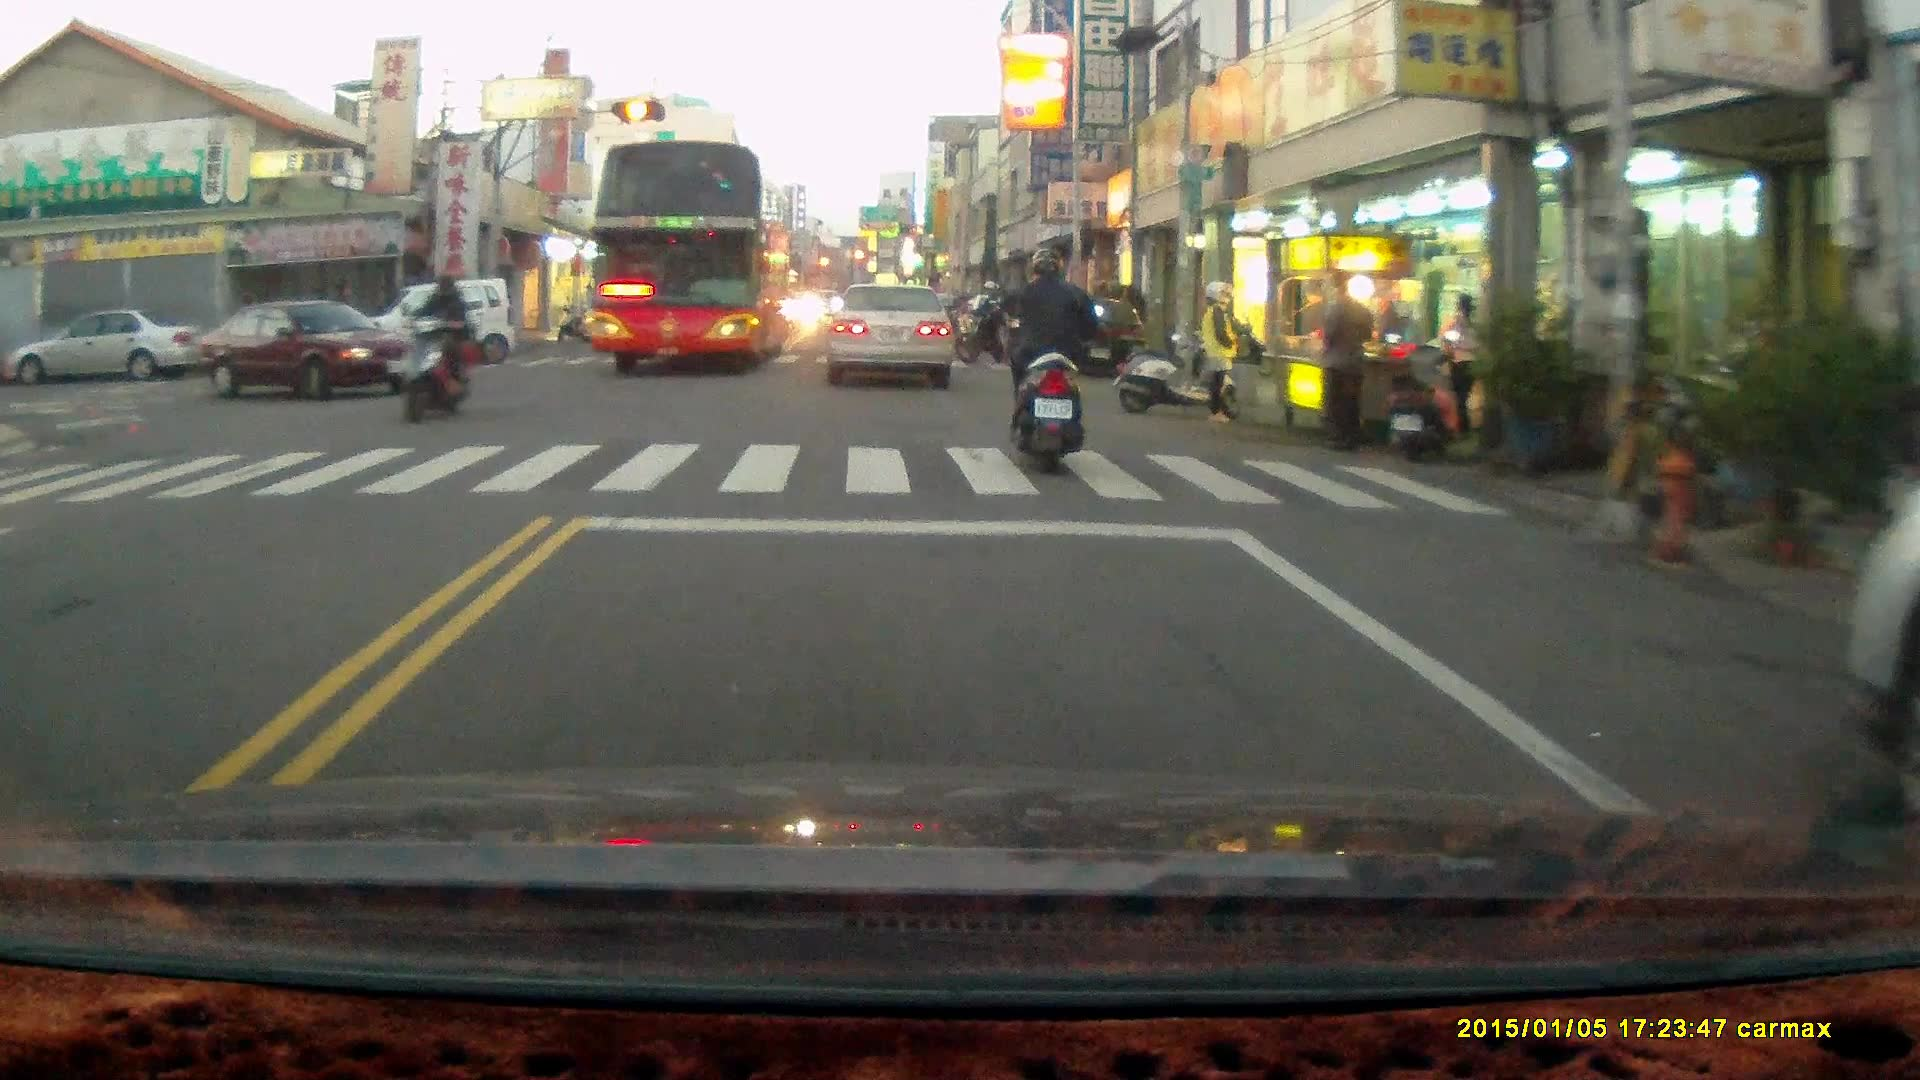pedestrian: (1319, 266, 1374, 454), (1438, 295, 1484, 437), (1197, 280, 1240, 428)
rider: (995, 241, 1106, 475), (395, 264, 474, 422), (953, 281, 1019, 367)
vehicle: (590, 144, 791, 382), (203, 302, 423, 403), (364, 280, 520, 371), (827, 285, 960, 389), (12, 311, 190, 388), (1047, 294, 1152, 377)
